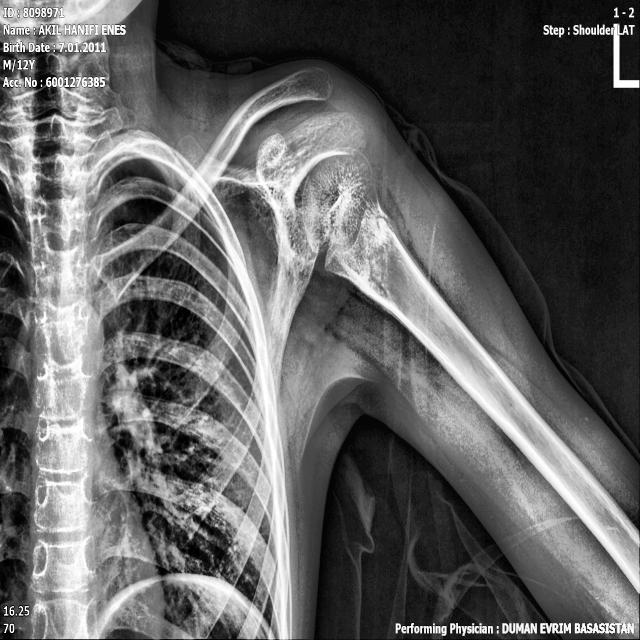Fracture: (317, 179, 356, 272)
